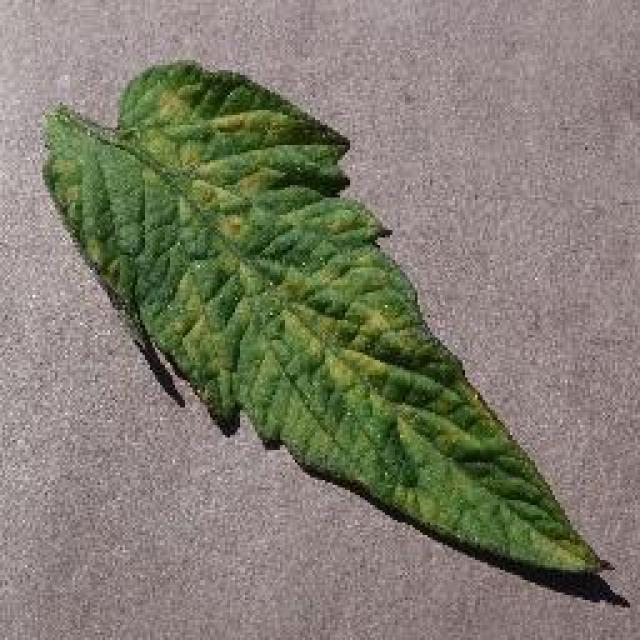leaf mold: (42, 60, 613, 575)
